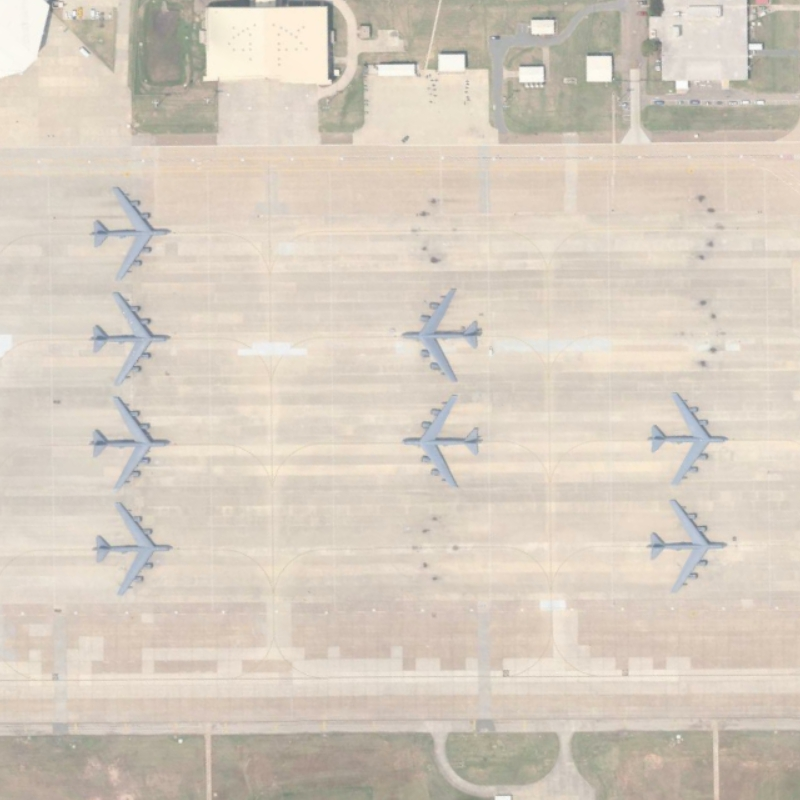A8: (84, 181, 174, 287), (89, 494, 177, 602), (643, 491, 730, 600), (396, 283, 488, 386), (82, 288, 175, 389), (85, 390, 175, 494), (396, 386, 484, 491), (646, 387, 729, 489)
